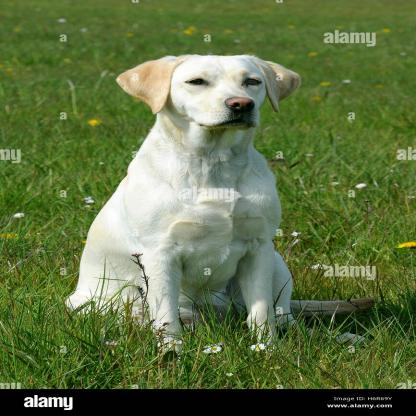dog: (67, 53, 378, 353)
